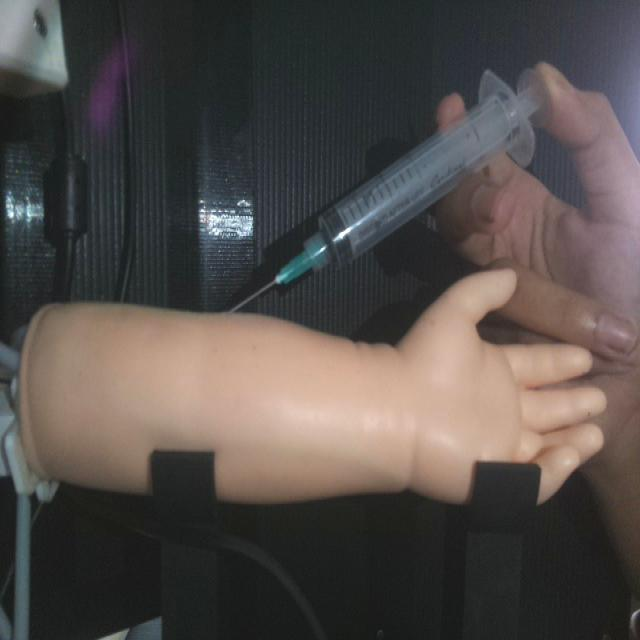Above 30 degrees: (222, 64, 545, 315)
